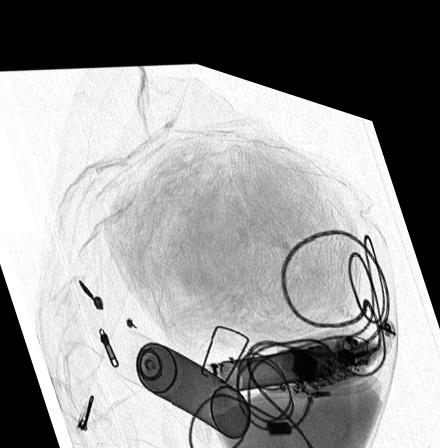Sprayer: (111, 320, 250, 422)
